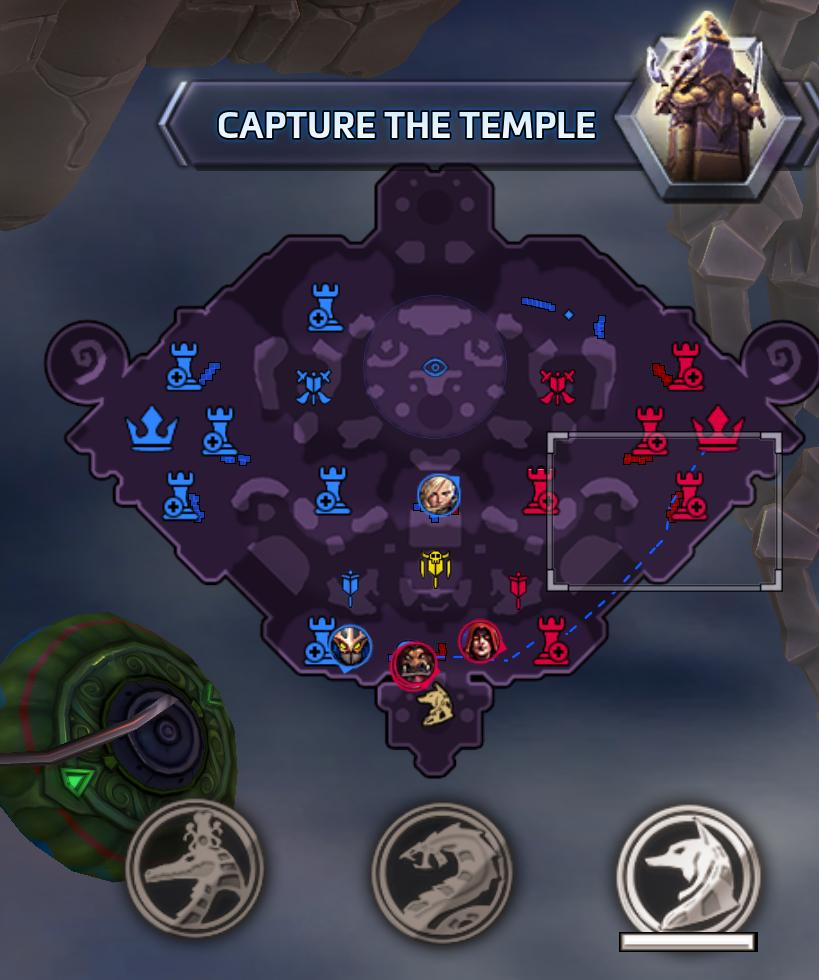blue nexus: (122, 397, 182, 456)
blue player: (329, 623, 372, 668), (417, 472, 460, 515)
blue tower: (200, 405, 250, 464), (160, 469, 205, 522), (313, 462, 352, 515), (306, 280, 345, 332), (301, 614, 339, 665), (165, 340, 202, 392)
red nexus: (690, 404, 745, 452)
red player: (391, 641, 439, 689), (459, 619, 505, 663)
red tower: (624, 405, 669, 463), (666, 468, 708, 522), (666, 339, 704, 391), (521, 465, 560, 515), (534, 613, 570, 664)
